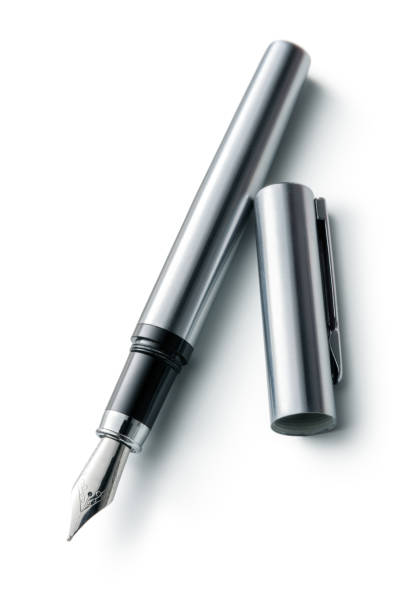pen: (58, 22, 363, 546)
